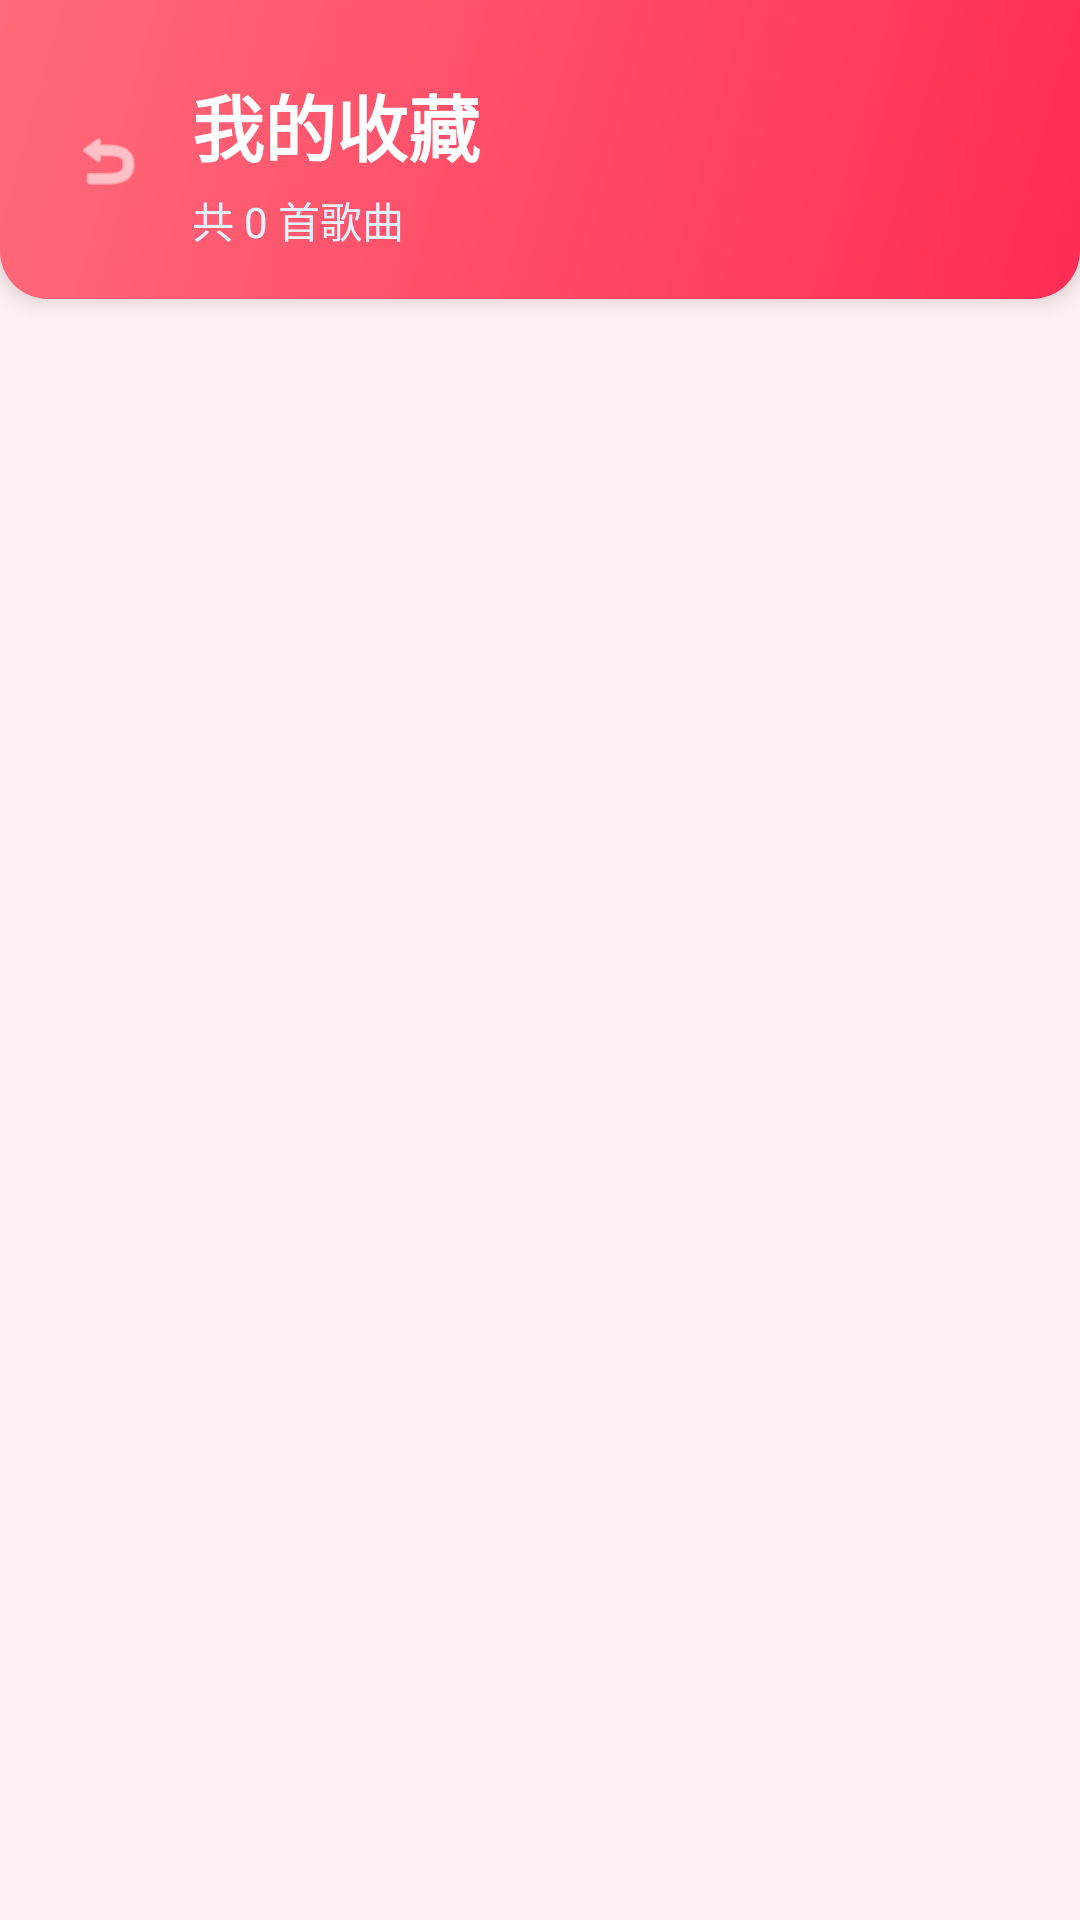

Point at icon controls on the screen. Image size 1080x1920, points as [x,y].
revert: [109,161]
